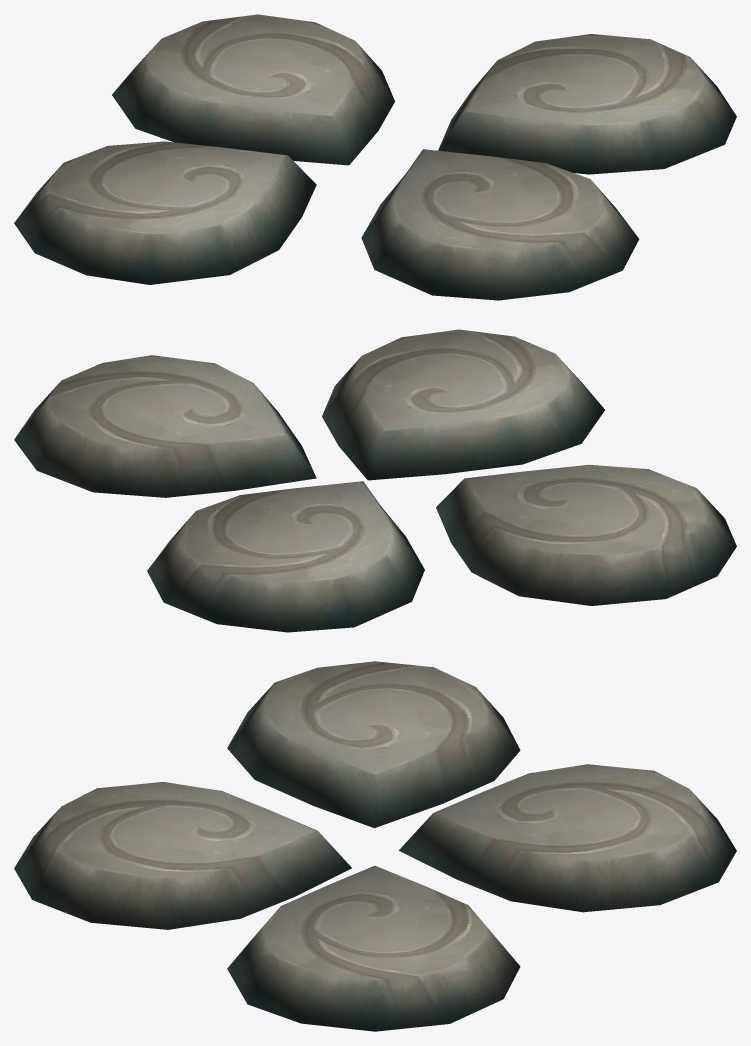
The picture shows the model from 3 angles, top to bottom: view 1: azimuth 30°, elevation 25°; view 2: azimuth 150°, elevation 25°; view 3: azimuth 270°, elevation 25°; orthographic projection. The views are drawn at different scales.
Size of the model in its own units: 7.87 by 0.3989 by 6.94.
1 material, 1 textured.
